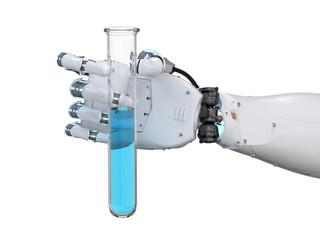Test tube: (99, 17, 142, 222)
